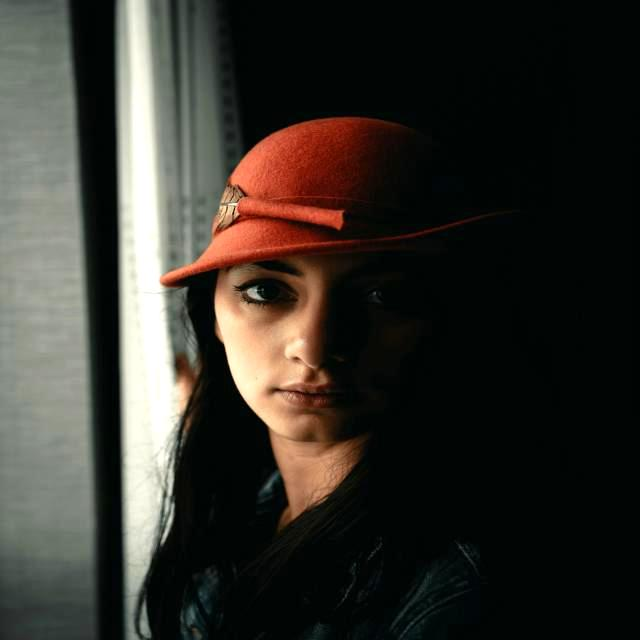no_hard_hat: (160, 117, 519, 287)
person: (136, 117, 575, 640)
